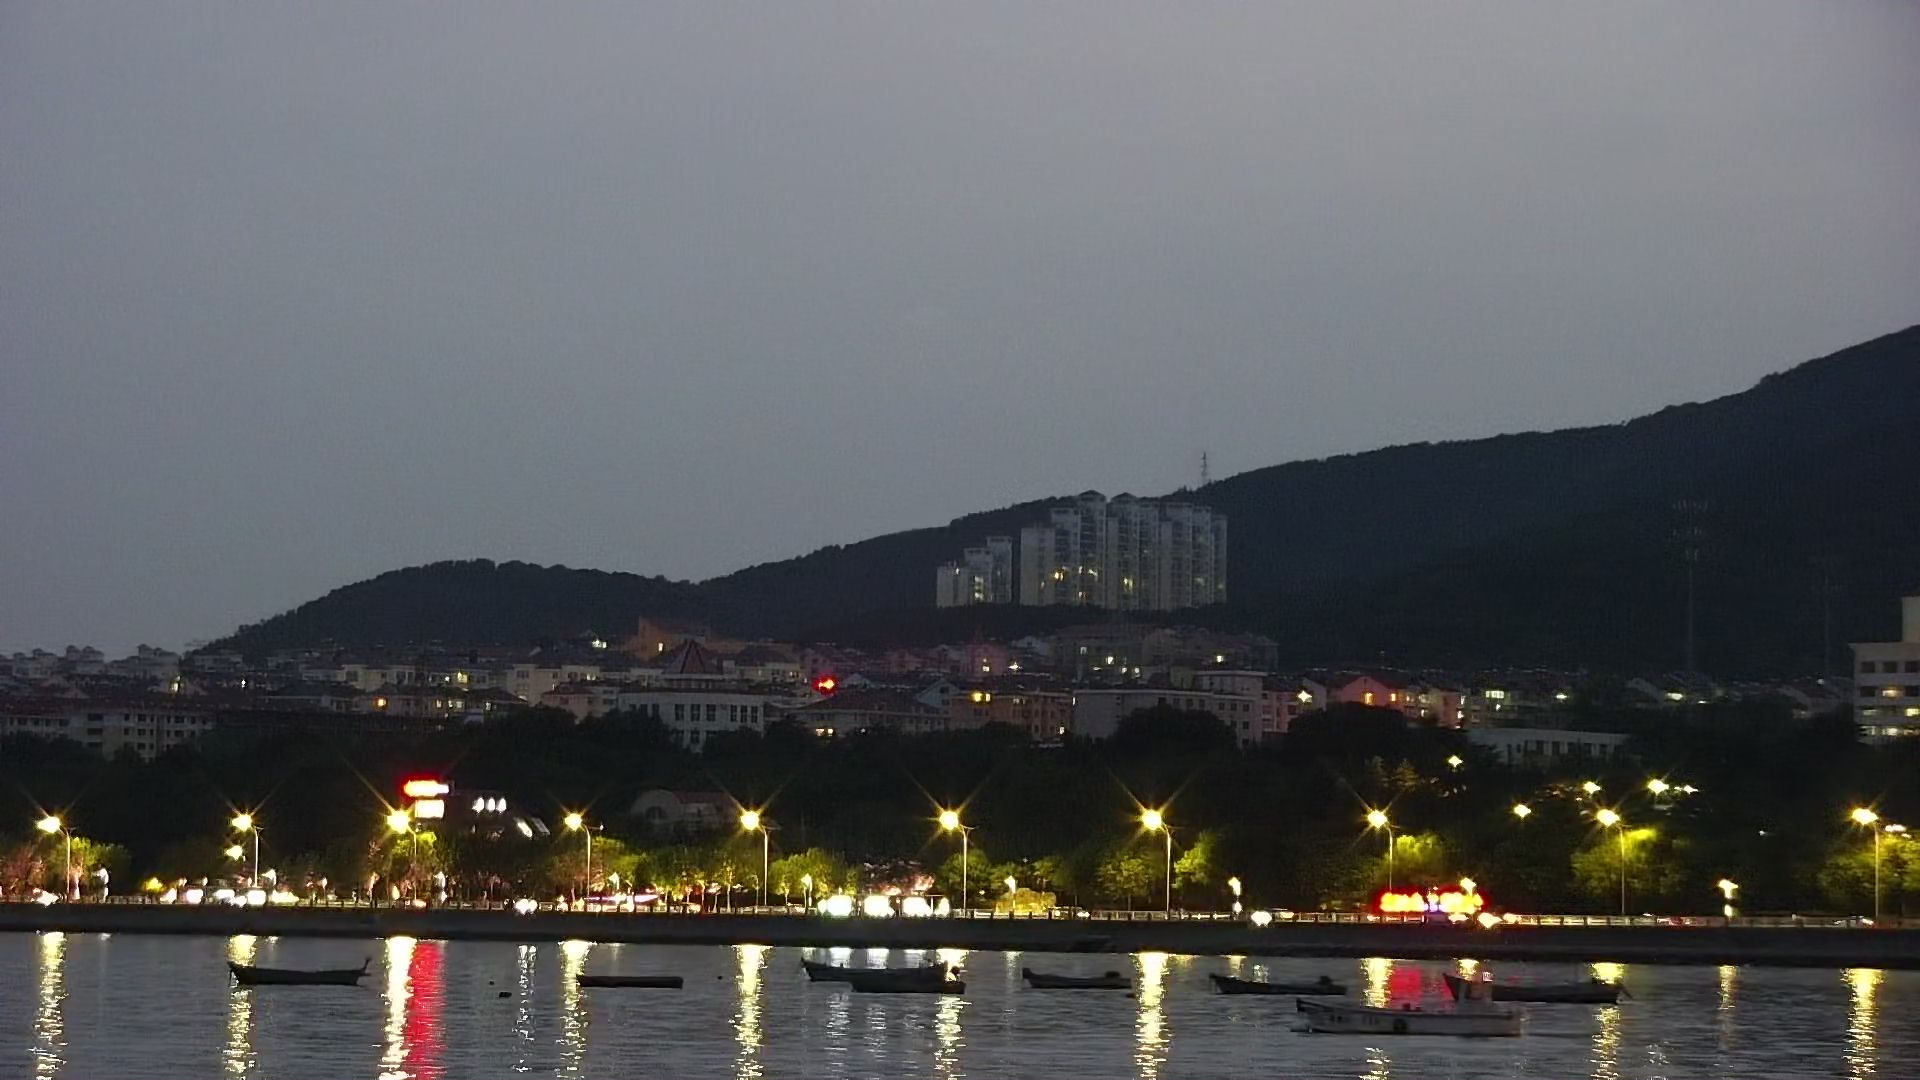boat: (1299, 1004, 1549, 1067), (804, 944, 957, 1007), (1437, 967, 1629, 1015), (1215, 955, 1360, 1002), (225, 951, 373, 996), (1019, 956, 1133, 1001), (567, 973, 690, 996)
